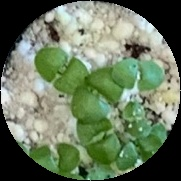Basil: (75, 67, 117, 122), (33, 49, 87, 91), (81, 116, 118, 160), (30, 143, 79, 176), (116, 56, 166, 87), (120, 135, 155, 170)
